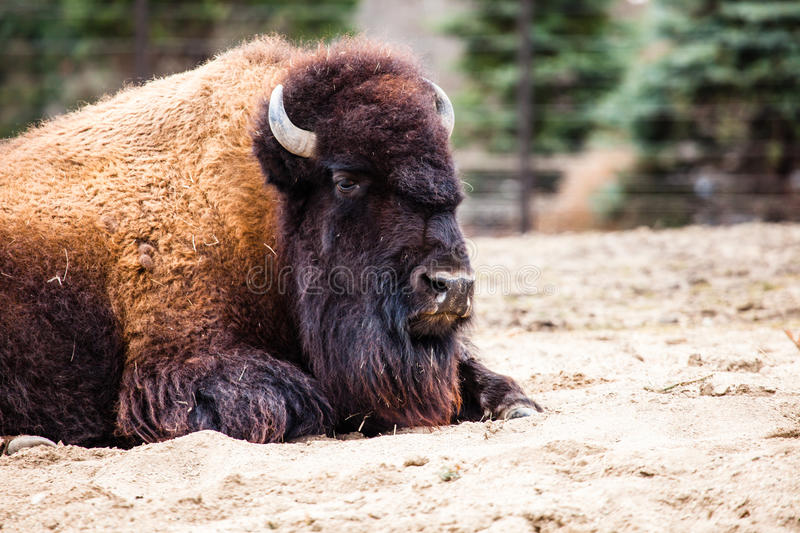zubr: (1, 20, 588, 478)
